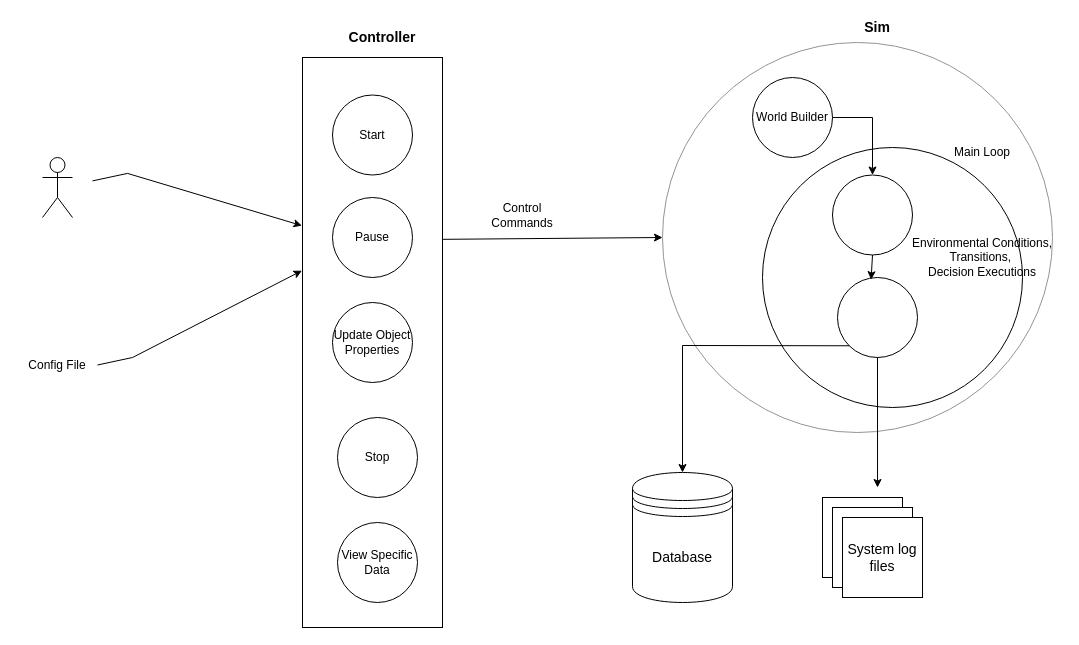
Image size: 1079x645. Some labels were removed from this diagram. Each missing label, with the centre of its shape:
Data recorder: [877,317]
Sim Manager: [872,214]
User: [57,187]
